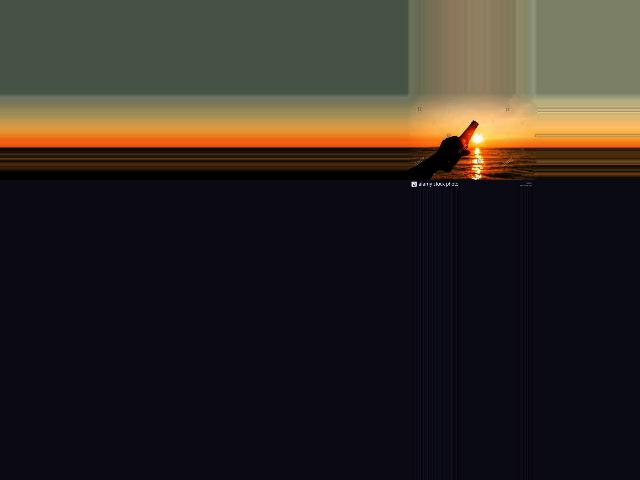beer: (439, 120, 478, 172)
